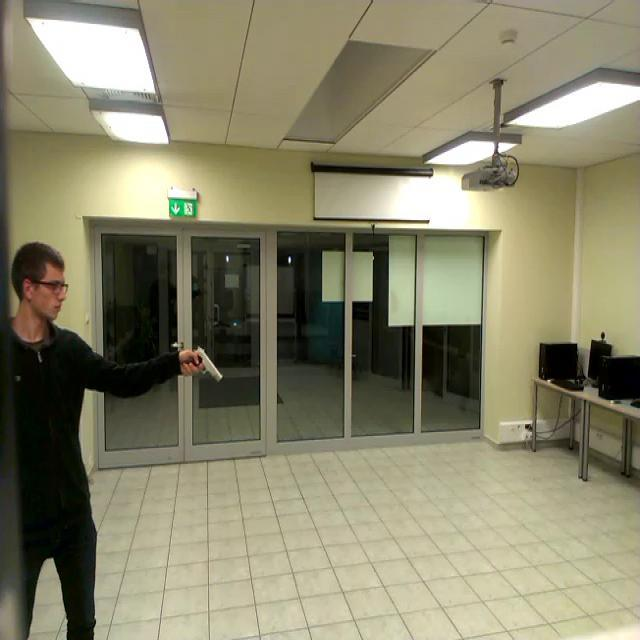Gun: (185, 344, 224, 382)
